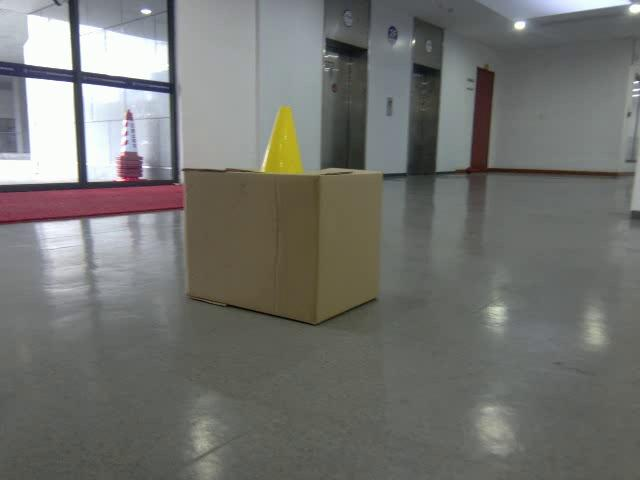yellow_barrel: (254, 105, 306, 175)
